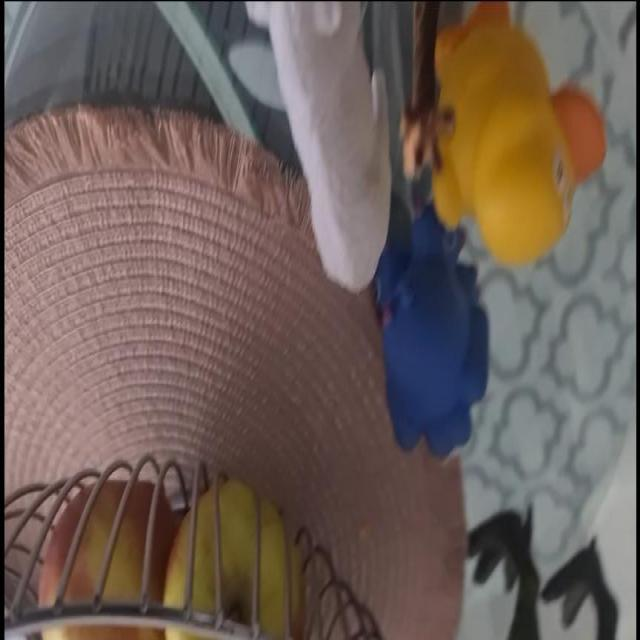hard-toy: (434, 5, 577, 265), (270, 4, 392, 292), (376, 206, 490, 456)
